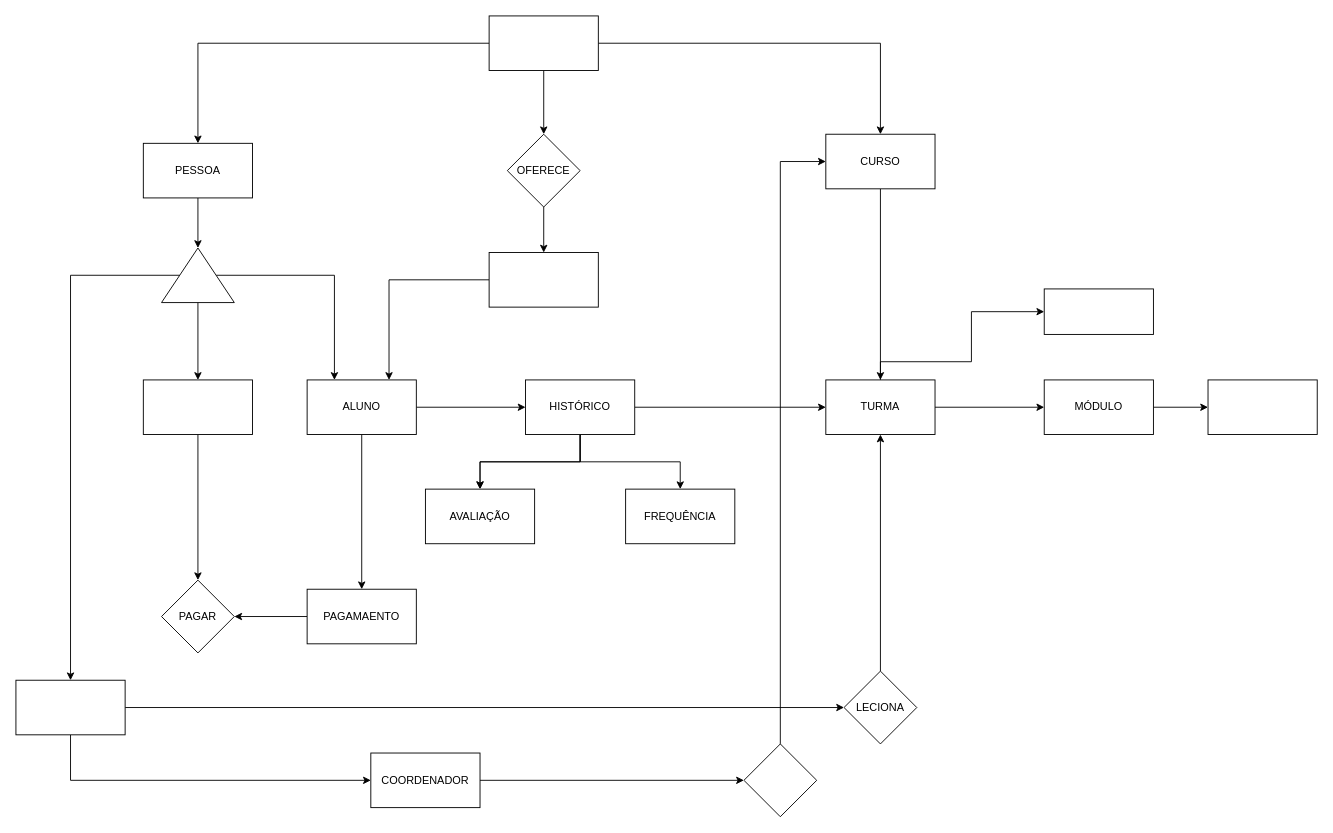
Image size: 1333x833. Some labels were removed from this diagram. Each missing label, with the centre of its shape:
BOLSA: point (543, 279)
COORDENA: point (780, 780)
ESCOLA: point (543, 43)
FUNCIONÁRIO ADM: point (197, 407)
NÍVEL: point (1262, 407)
PERÍODO: point (1098, 311)
PROFESSOR: point (70, 707)
